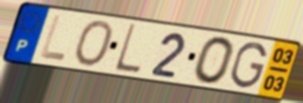2: (146, 29, 189, 81)
G: (228, 41, 269, 90)
L: (112, 22, 142, 76), (37, 14, 68, 63)
O: (191, 34, 237, 86), (72, 19, 115, 68)
